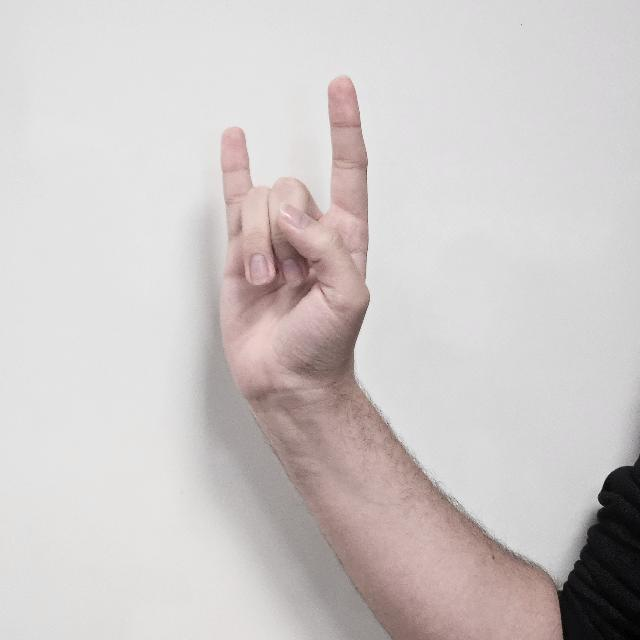L: (207, 77, 385, 406)
